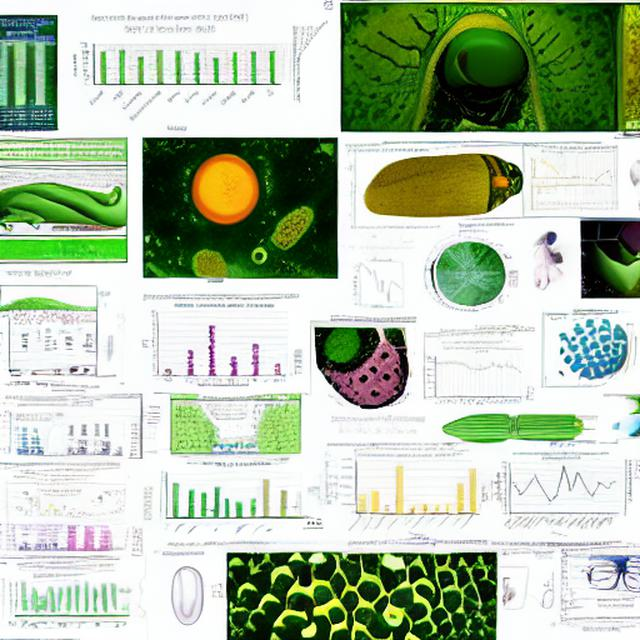Graph: (68, 10, 285, 134), (136, 302, 292, 390), (335, 447, 481, 534), (492, 449, 620, 539), (421, 345, 525, 410), (340, 255, 421, 311), (528, 150, 587, 184), (32, 489, 88, 522)
